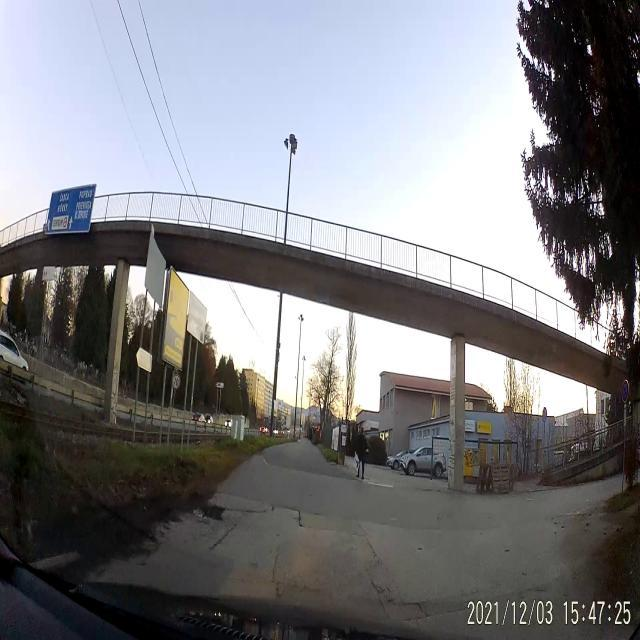Pothole: (196, 490, 225, 524), (402, 600, 430, 622), (573, 510, 595, 522), (243, 505, 267, 516)
